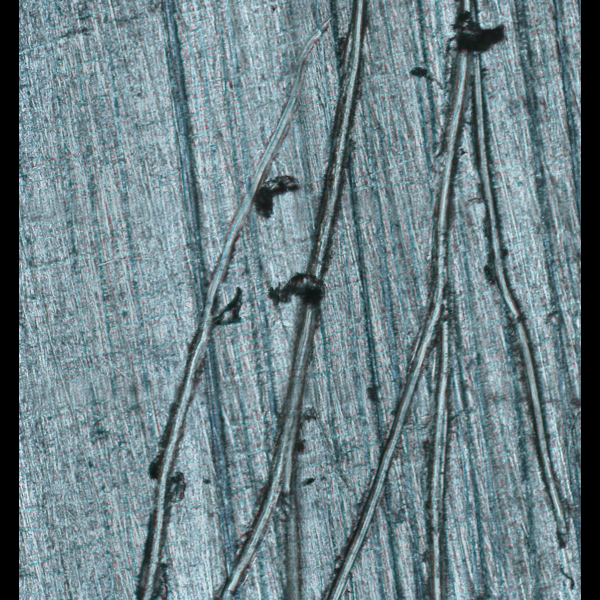d: (111, 0, 576, 599)
